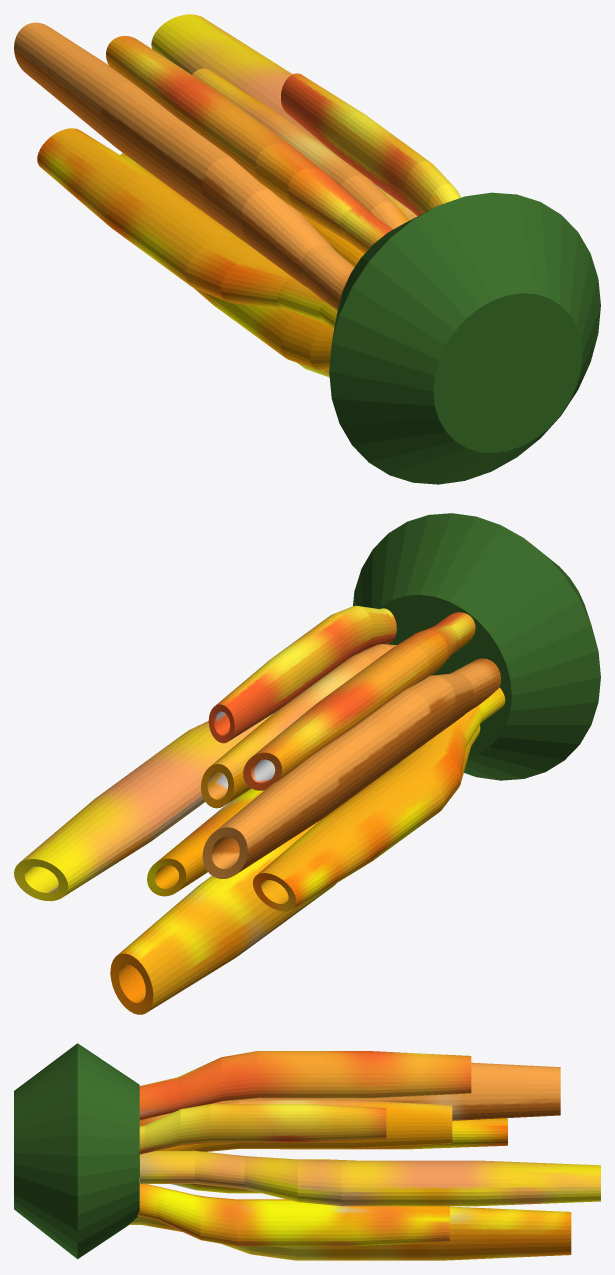
The model's file is esponjademar.fbx.
3 renders of one model, top to bottom at view 1: azimuth 30°, elevation 25°; view 2: azimuth 150°, elevation 25°; view 3: azimuth 270°, elevation 25°, orthographic. The views are drawn at different scales.
Parts seen in each view (by area): view 1: Cylinder, Cylinder.005, Cylinder.003, Cylinder.004, Cylinder.002, Cylinder.001, Cylinder.009, Cylinder.008, Cylinder.007; view 2: Cylinder, Cylinder.005, Cylinder.003, Cylinder.001, Cylinder.006, Cylinder.004, Cylinder.002, Cylinder.009, Cylinder.007; view 3: Cylinder, Cylinder.001, Cylinder.004, Cylinder.007, Cylinder.006, Cylinder.002, Cylinder.005, Cylinder.009, Cylinder.003, Cylinder.008.
Boxes of the visible parts, <box> form: Cylinder: <box>329,192,600,484</box>; Cylinder.005: <box>14,22,354,309</box>; Cylinder.003: <box>37,128,337,329</box>; Cylinder.004: <box>106,36,392,253</box>; Cylinder.002: <box>281,73,461,216</box>; Cylinder.001: <box>151,14,417,220</box>; Cylinder.009: <box>192,68,408,229</box>; Cylinder.008: <box>194,288,333,370</box>; Cylinder.007: <box>301,213,364,266</box>; Cylinder: <box>353,513,600,780</box>; Cylinder.005: <box>202,658,500,878</box>; Cylinder.003: <box>253,688,505,911</box>; Cylinder.001: <box>14,714,272,901</box>; Cylinder.006: <box>110,821,336,1014</box>; Cylinder.004: <box>243,612,475,790</box>; Cylinder.002: <box>208,605,396,743</box>; Cylinder.009: <box>201,644,396,808</box>; Cylinder.007: <box>147,788,264,896</box>; Cylinder: <box>14,1043,139,1259</box>; Cylinder.001: <box>140,1150,600,1206</box>; Cylinder.004: <box>139,1051,471,1120</box>; Cylinder.007: <box>137,1182,449,1246</box>; Cylinder.006: <box>129,1194,571,1260</box>; Cylinder.002: <box>139,1104,386,1154</box>; Cylinder.005: <box>139,1062,560,1126</box>; Cylinder.009: <box>139,1100,452,1167</box>; Cylinder.003: <box>280,1118,507,1149</box>; Cylinder.008: <box>139,1159,354,1193</box>.
Bounding box in the file's own units: 160 × 165 × 434.
Materials: 10 (10 with a texture image).
